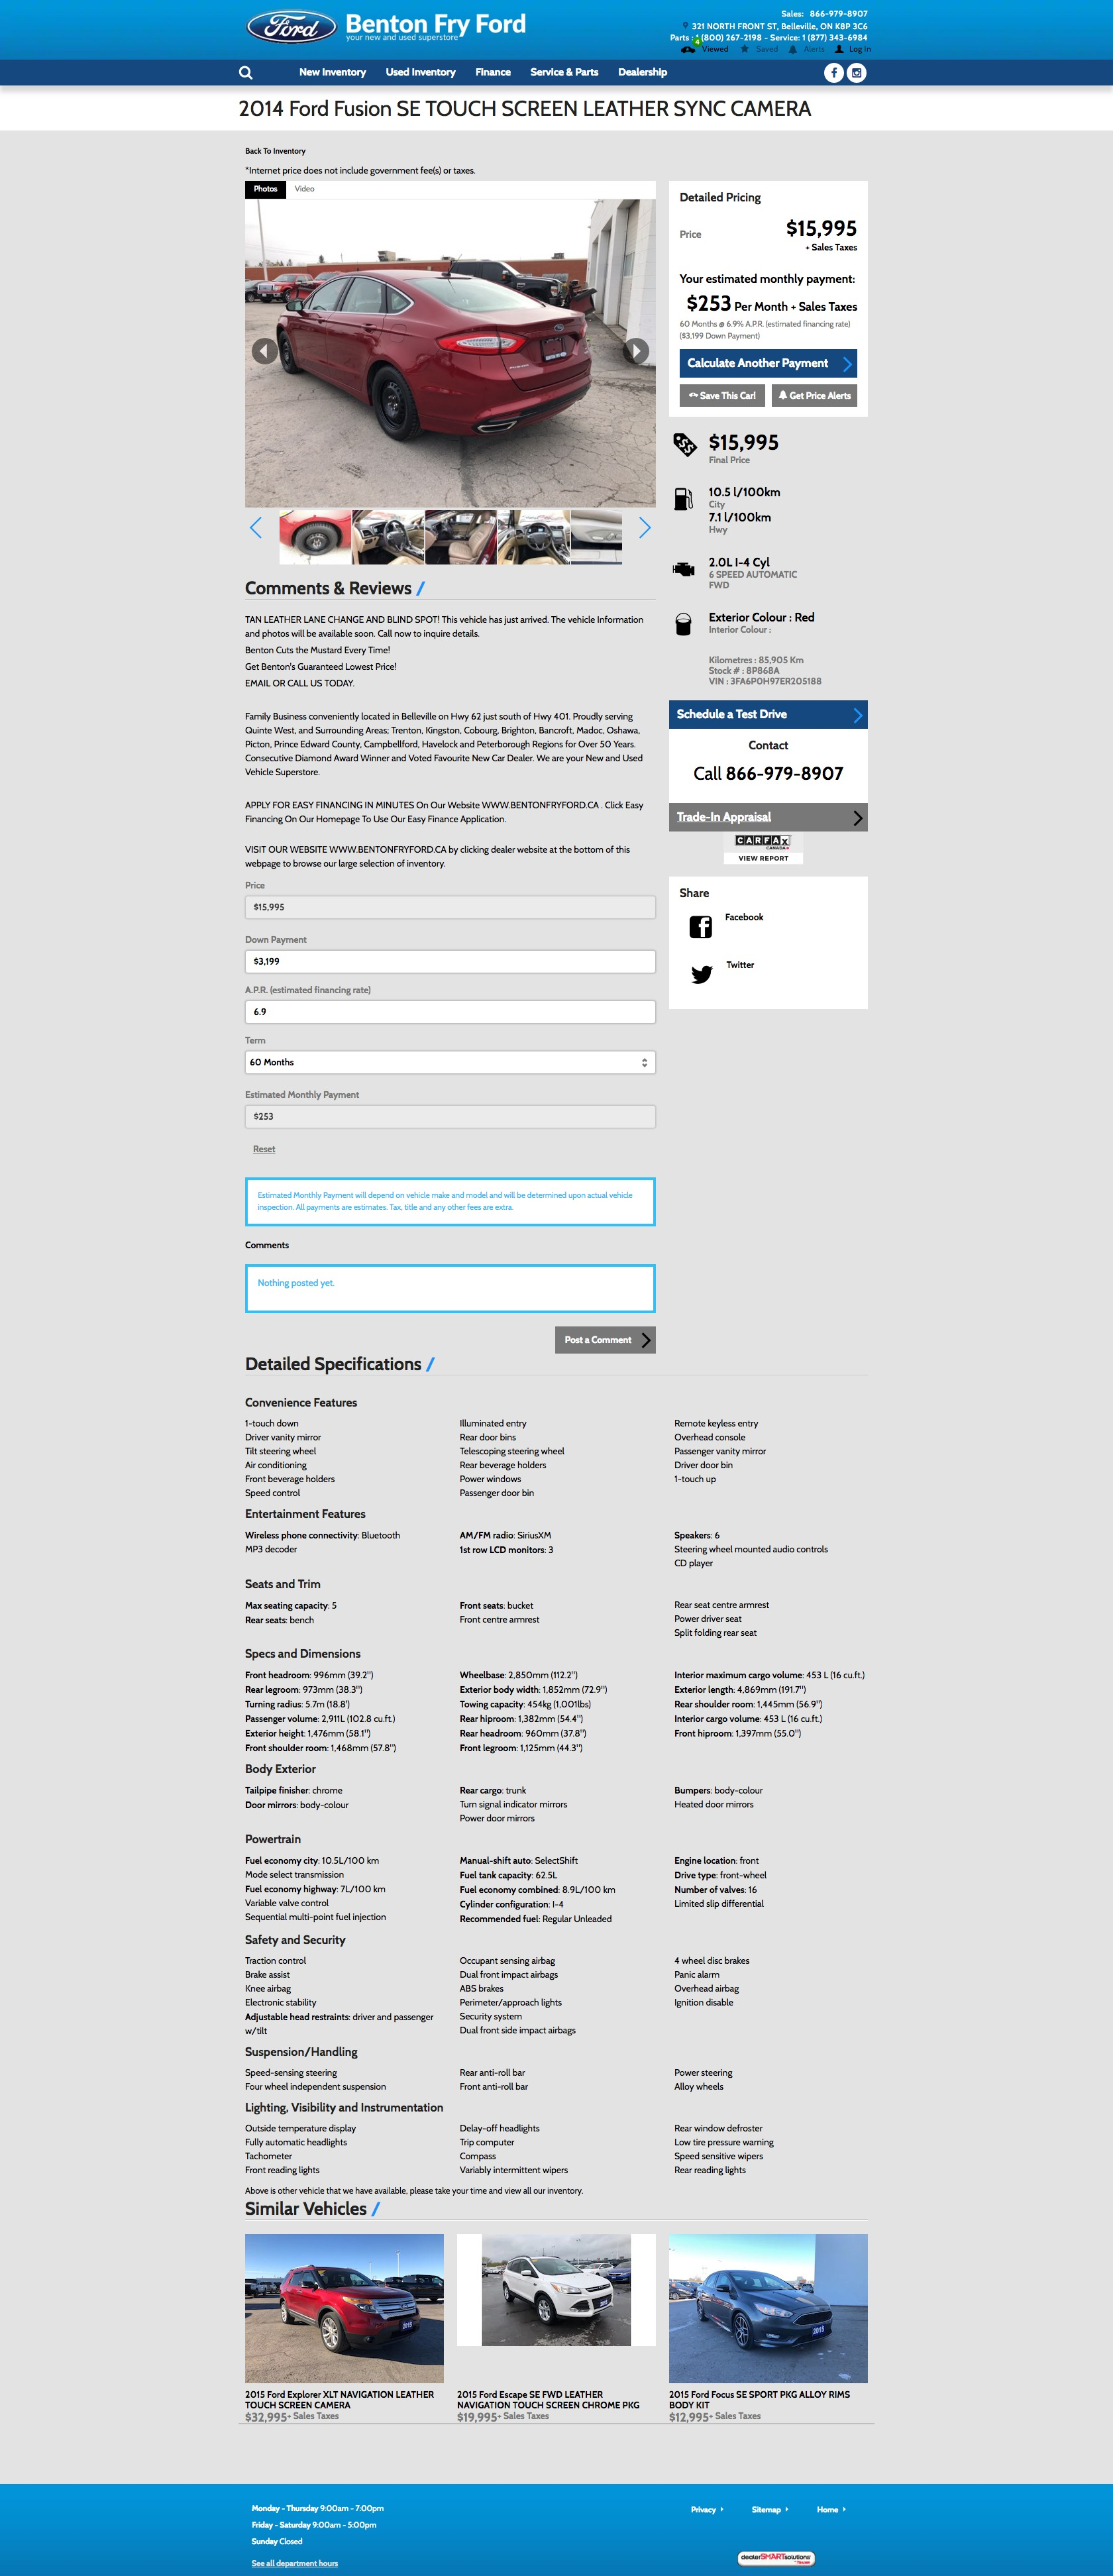car: (637, 516, 653, 540)
